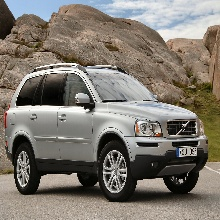no damage: (4, 63, 209, 202)
